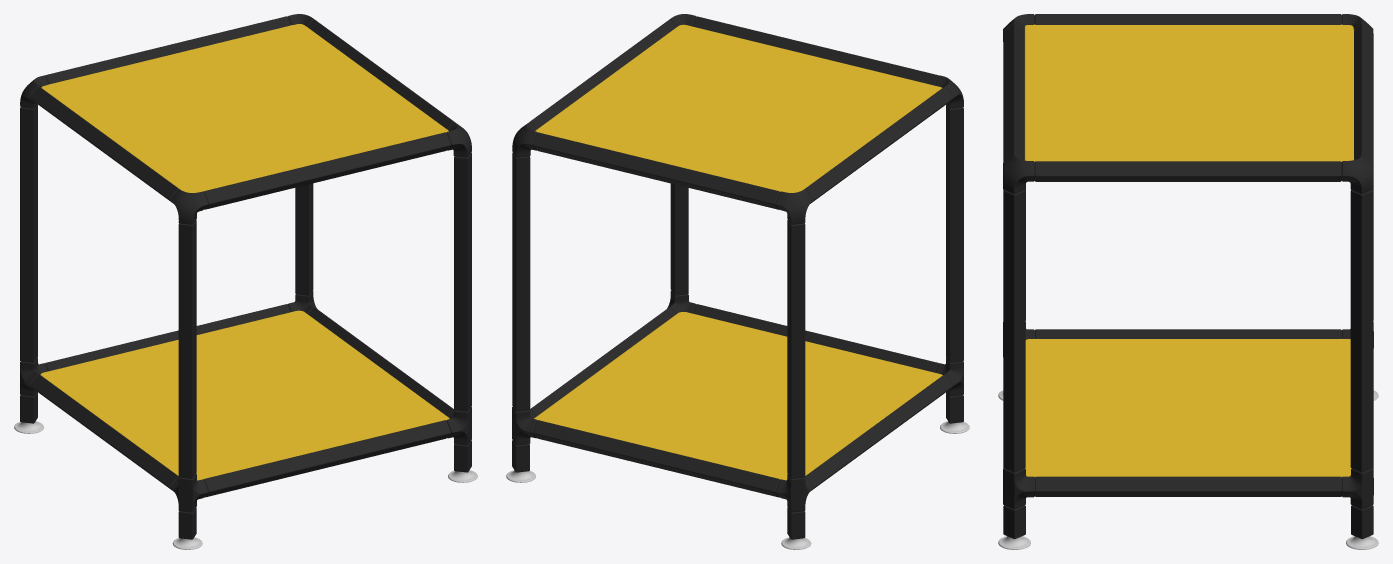
3 renders of one model, left to right at view 1: azimuth 30°, elevation 25°; view 2: azimuth 150°, elevation 25°; view 3: azimuth 270°, elevation 25°, orthographic. The views are drawn at different scales.
Parts seen in each view (by area): view 1: 374x374x374; view 2: 374x374x374; view 3: 374x374x374.
Boxes of the visible parts, box(x1,y1,x2,y2) form: 374x374x374: box(14, 14, 477, 549); 374x374x374: box(506, 14, 969, 549); 374x374x374: box(998, 14, 1378, 549).
Bounding box in the file's own units: 0.4639 × 0.5133 × 0.4632.
